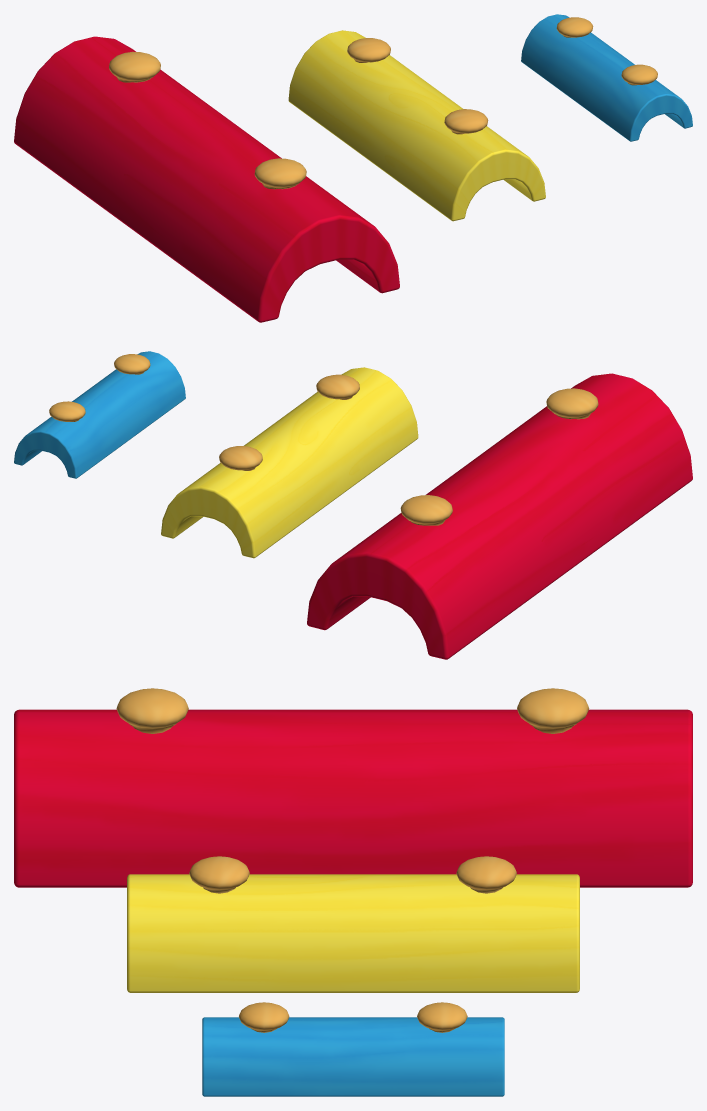
The model's file is xylophone.fbx.
3 views of the same model, one above another, from view 1: azimuth 30°, elevation 25°; view 2: azimuth 150°, elevation 25°; view 3: azimuth 270°, elevation 25° (orthographic). The views are drawn at different scales.
Visible parts, largest first — view 1: pCube1, pCube2, pCube3, pSphere2, pSphere3, group2_pSphere3, group2_pSphere2, group3_pSphere3, group3_pSphere2; view 2: pCube1, pCube2, pCube3, pSphere3, pSphere2, group2_pSphere3, group2_pSphere2, group3_pSphere2, group3_pSphere3; view 3: pCube1, pCube2, pCube3, pSphere2, pSphere3, group2_pSphere3, group2_pSphere2, group3_pSphere2, group3_pSphere3.
Boxes of the visible parts, <box> form: pCube1: <box>14,36,399,322</box>; pCube2: <box>288,30,545,221</box>; pCube3: <box>521,14,692,141</box>; pSphere2: <box>109,51,160,82</box>; pSphere3: <box>254,158,306,189</box>; group2_pSphere3: <box>444,109,488,134</box>; group2_pSphere2: <box>347,38,390,62</box>; group3_pSphere3: <box>621,64,657,85</box>; group3_pSphere2: <box>556,17,593,37</box>; pCube1: <box>307,373,692,659</box>; pCube2: <box>161,367,418,558</box>; pCube3: <box>14,351,185,478</box>; pSphere3: <box>546,388,598,419</box>; pSphere2: <box>400,495,452,525</box>; group2_pSphere3: <box>316,374,359,399</box>; group2_pSphere2: <box>219,446,262,470</box>; group3_pSphere2: <box>49,401,85,421</box>; group3_pSphere3: <box>114,354,150,374</box>; pCube1: <box>14,709,692,887</box>; pCube2: <box>127,874,579,992</box>; pCube3: <box>202,1017,504,1096</box>; pSphere2: <box>517,688,589,733</box>; pSphere3: <box>116,688,188,733</box>; group2_pSphere3: <box>189,856,249,893</box>; group2_pSphere2: <box>456,856,516,893</box>; group3_pSphere2: <box>417,1002,467,1032</box>; group3_pSphere3: <box>239,1002,289,1032</box>.
Size of the model in its own units: 264 by 53.72 by 225.
